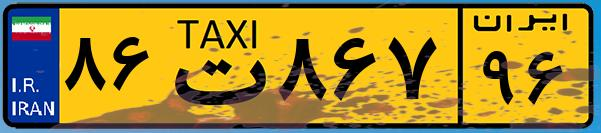6: (330, 28, 385, 110), (525, 38, 570, 115), (110, 28, 158, 98)
7: (385, 28, 445, 110)
8: (270, 28, 330, 110), (57, 26, 110, 100)
9: (475, 38, 525, 113)
ت: (158, 12, 270, 120)
